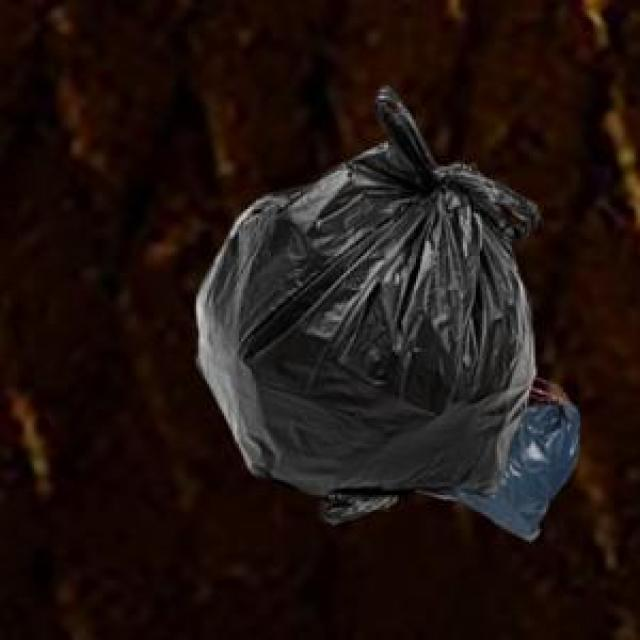waste: (198, 88, 580, 539)
